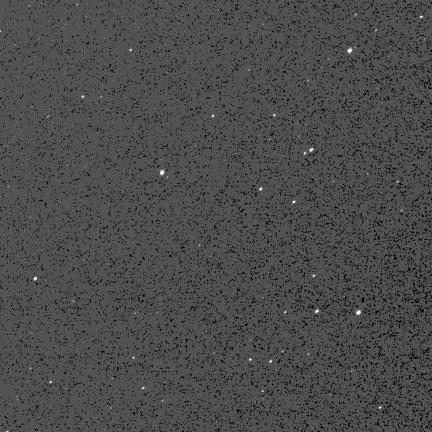blob: (160, 170, 165, 176), (356, 310, 361, 315), (347, 48, 352, 53), (309, 148, 313, 152), (34, 277, 38, 281), (259, 188, 263, 192), (315, 309, 319, 313), (270, 360, 273, 364), (81, 96, 85, 99), (249, 358, 252, 362), (292, 201, 295, 204), (212, 115, 215, 118), (273, 114, 276, 117), (142, 387, 145, 390)
